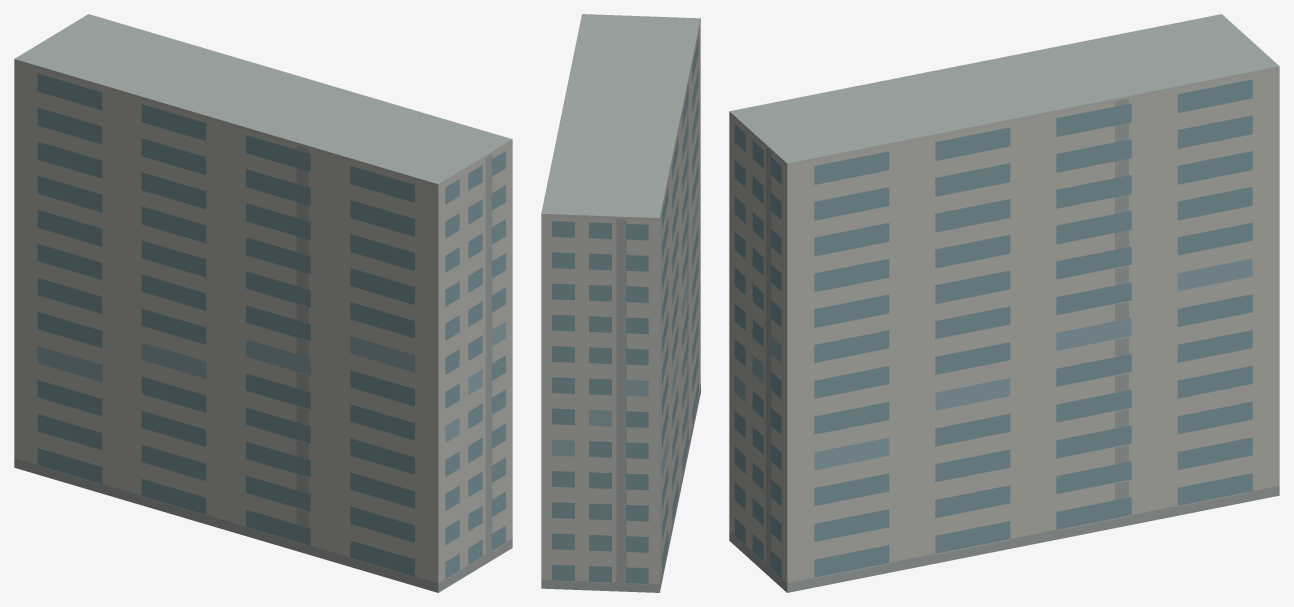
File: residential-e3f6faed-6c4b-4299-b879-2df5bc10394d.glb
The picture shows the model from 3 angles, left to right: view 1: azimuth 30°, elevation 25°; view 2: azimuth 150°, elevation 25°; view 3: azimuth 270°, elevation 25°; orthographic projection. The views are drawn at different scales.
Visible parts, largest first — view 1: residential-e3f6faed-6c4b-4299-b879-2df5bc10394d.tmp; view 2: residential-e3f6faed-6c4b-4299-b879-2df5bc10394d.tmp; view 3: residential-e3f6faed-6c4b-4299-b879-2df5bc10394d.tmp.
Boxes of the visible parts, left/top/right/bottom form: residential-e3f6faed-6c4b-4299-b879-2df5bc10394d.tmp: left=14, top=14, right=512, bottom=592; residential-e3f6faed-6c4b-4299-b879-2df5bc10394d.tmp: left=541, top=14, right=700, bottom=592; residential-e3f6faed-6c4b-4299-b879-2df5bc10394d.tmp: left=729, top=14, right=1279, bottom=592.
Bounding box in the file's own units: 27.63 × 37 × 42.98.
